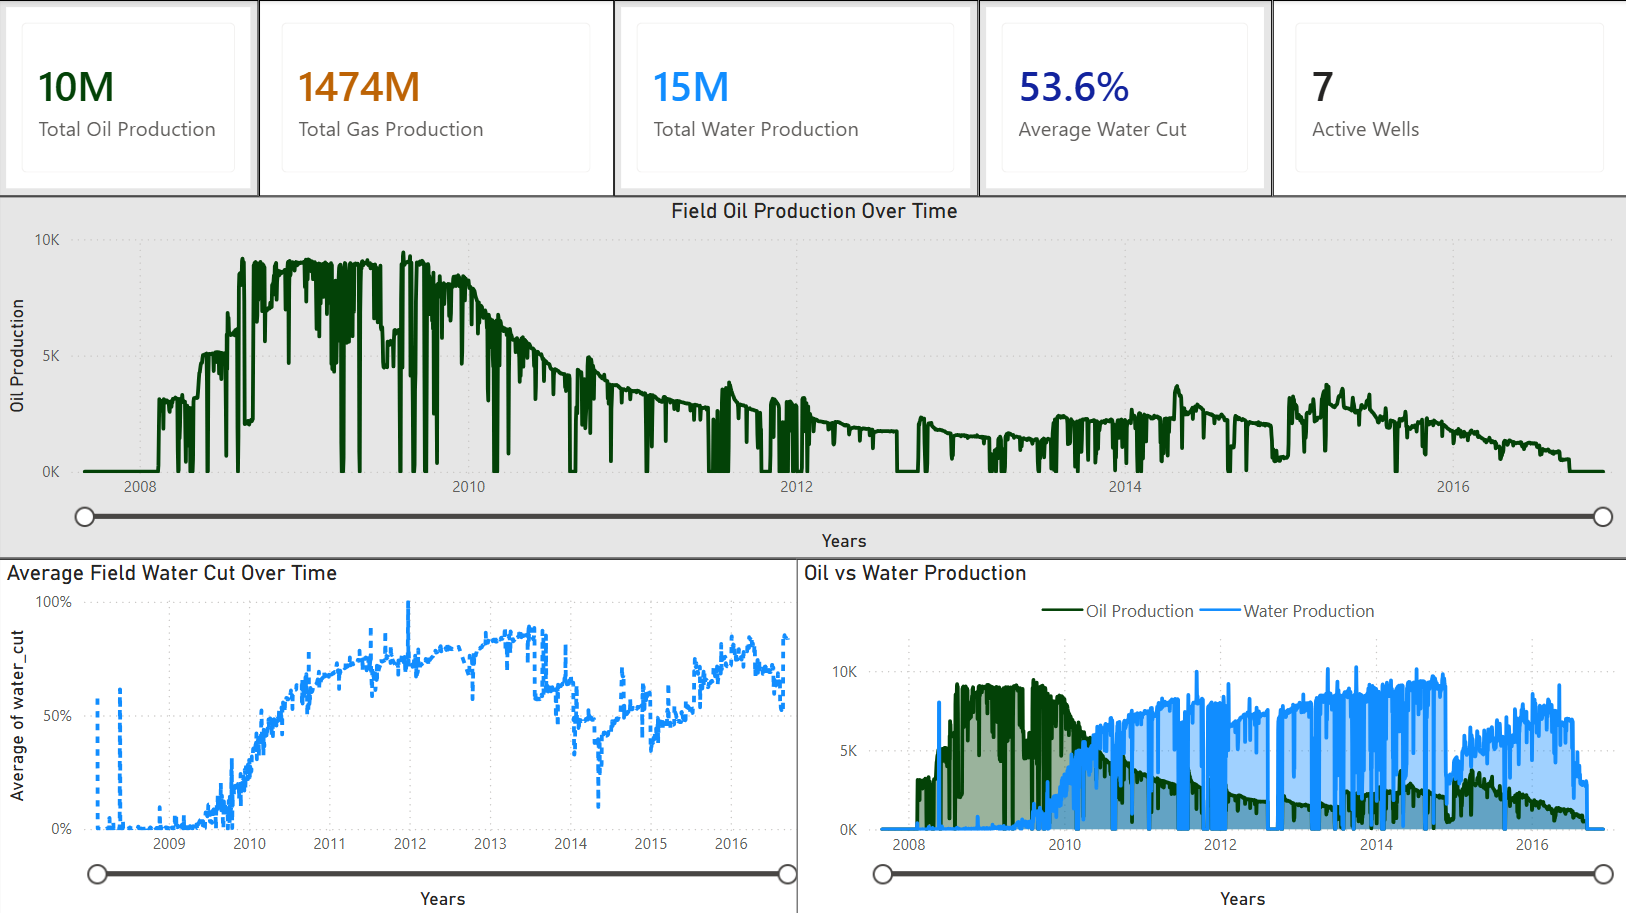

This screenshot's page, from the dashboard's own definition file:
{"tool":"powerbi","page":{"name":"Executive Overview","canvas":[1280,720],"ordinal":0},"visuals":[{"type":"cardVisual","fields":{"Data":["Sum(volve_cleaned.bore_oil_vol)"]},"box":[0,0,204.3,154.3],"z":0},{"type":"cardVisual","fields":{"Data":["Sum(volve_cleaned.bore_wat_vol)"]},"box":[483.8,0,286.4,154.3],"z":1000},{"type":"cardVisual","fields":{"Data":["Avg(volve_cleaned.water_cut)"]},"box":[770.1,0,230.8,154.3],"z":2000},{"type":"lineChart","title":"Field Oil Production Over Time","fields":{"Y":["Sum(volve_cleaned.bore_oil_vol)"],"Category":["volve_cleaned.dateprd"]},"box":[0,154.3,1280.3,285],"z":3000},{"type":"lineChart","title":"Average Field Water Cut Over Time","fields":{"Y":["Avg(volve_cleaned.water_cut)"],"Category":["volve_cleaned.dateprd"]},"box":[0,439.3,639.4,280.8],"z":4000},{"type":"areaChart","title":"Oil vs Water Production","fields":{"Category":["volve_cleaned.dateprd"],"Y":["Sum(volve_cleaned.bore_oil_vol)","Sum(volve_cleaned.bore_wat_vol)"]},"box":[626.9,439.3,653.3,280.8],"z":5000},{"type":"cardVisual","fields":{"Data":["Count(volve_cleaned.npd_well_bore_name)"]},"box":[1000.9,0,279.4,154.3],"z":6000},{"type":"cardVisual","fields":{"Data":["Sum(volve_cleaned.bore_gas_vol)"]},"box":[204.3,0,279.4,154.3],"z":7000}]}

Visuals, with their boxes in screenshot pixels (x1, y1, x2, y2), scaled from the page's 1280x720 canvas onto the 1626x913 screenshot:
cardVisual - Sum(volve_cleaned.bore_oil_vol): l=0, t=0, r=260, b=196
cardVisual - Sum(volve_cleaned.bore_wat_vol): l=615, t=0, r=978, b=196
cardVisual - Avg(volve_cleaned.water_cut): l=978, t=0, r=1271, b=196
"Field Oil Production Over Time" lineChart: l=0, t=196, r=1625, b=557
"Average Field Water Cut Over Time" lineChart: l=0, t=557, r=812, b=912
"Oil vs Water Production" areaChart: l=796, t=557, r=1625, b=912
cardVisual - Count(volve_cleaned.npd_well_bore_name): l=1271, t=0, r=1625, b=196
cardVisual - Sum(volve_cleaned.bore_gas_vol): l=260, t=0, r=614, b=196
